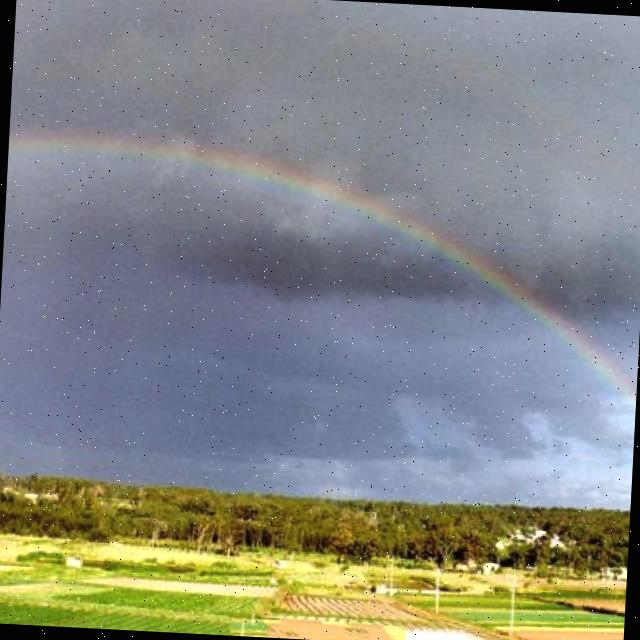Ns: (1, 23, 640, 465)
